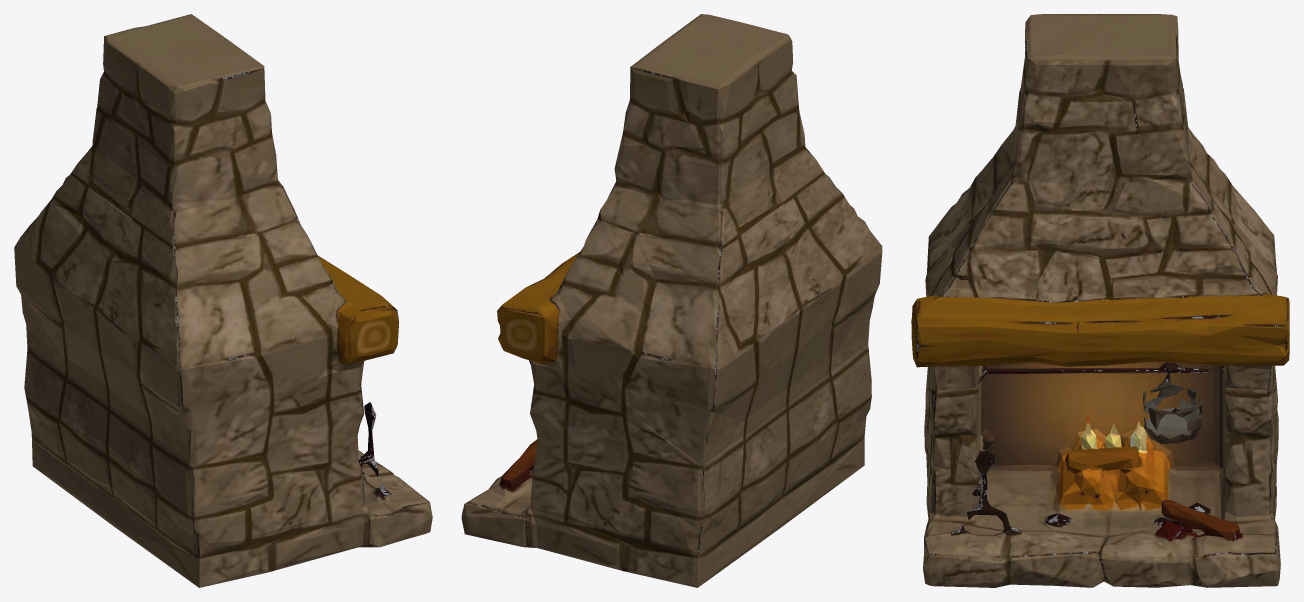
The model's file is tut_fireplace.glb.
The picture shows the model from 3 angles, left to right: view 1: azimuth 30°, elevation 25°; view 2: azimuth 150°, elevation 25°; view 3: azimuth 270°, elevation 25°; orthographic projection. The views are drawn at different scales.
Parts seen in each view (by area): view 1: tut_fireplace; view 2: tut_fireplace; view 3: tut_fireplace.
Part boxes in pixels (x1,y1,x2,y2): tut_fireplace: (14, 14, 432, 587); tut_fireplace: (461, 14, 882, 587); tut_fireplace: (911, 14, 1289, 587).
Size of the model in its own units: 1.27 by 2.2 by 1.59.
1 material, 1 textured.
